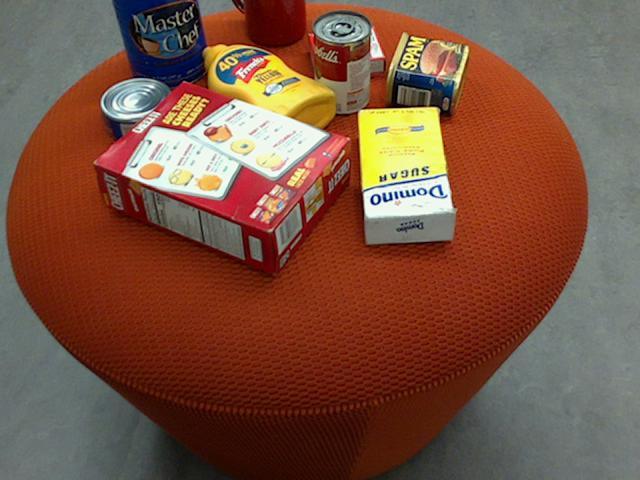cracker_box: (91, 79, 350, 272)
gelatin_box: (308, 26, 386, 82)
large_marker: (266, 0, 289, 39)
master_chef_can: (110, 0, 209, 88)
mug: (232, 0, 304, 45)
mustard_bottle: (202, 44, 334, 146)
potted_meat_can: (383, 32, 466, 114)
sugar_box: (355, 107, 456, 243)
tomato_soup_can: (312, 9, 371, 114)
tuna_fish_can: (97, 78, 175, 142)
